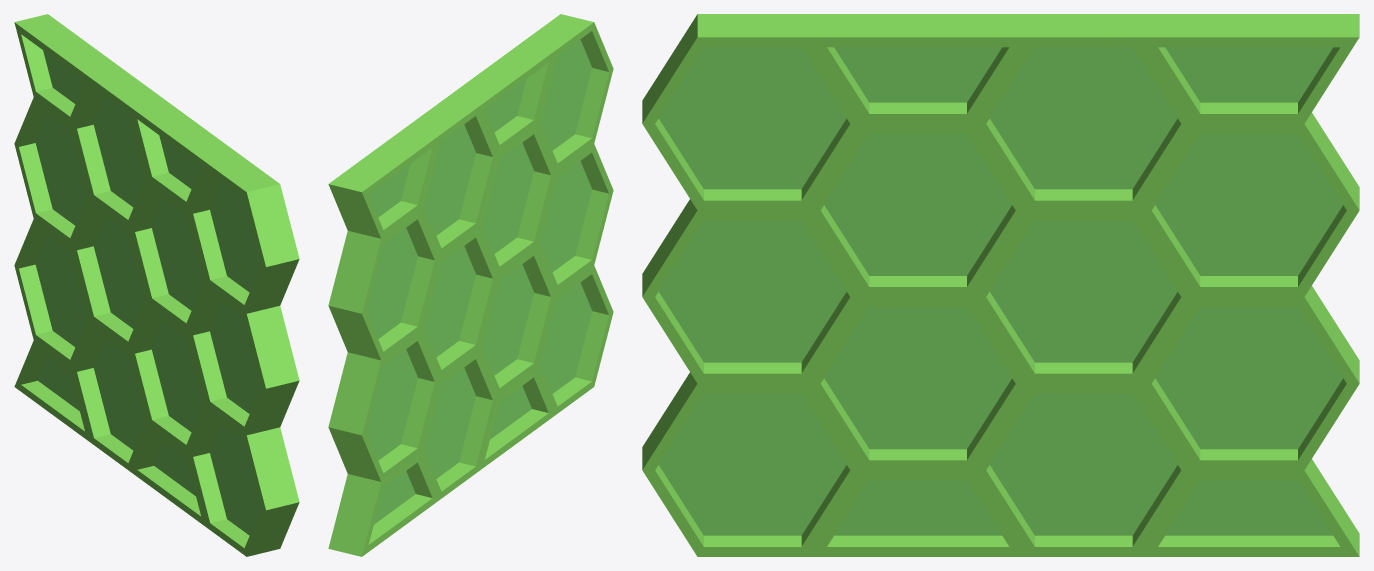
Rendered from cell_wall_fixed.fbx.
The picture shows the model from 3 angles, left to right: view 1: azimuth 30°, elevation 25°; view 2: azimuth 150°, elevation 25°; view 3: azimuth 270°, elevation 25°; orthographic projection. The views are drawn at different scales.
Visible parts, largest first — view 1: Circle; view 2: Circle; view 3: Circle.
Part boxes in pixels (left/top/right/bottom): Circle: left=14, top=14, right=299, bottom=556; Circle: left=328, top=14, right=613, bottom=556; Circle: left=642, top=14, right=1359, bottom=556.
Bounding box in the file's own units: 50 × 520 × 650.
